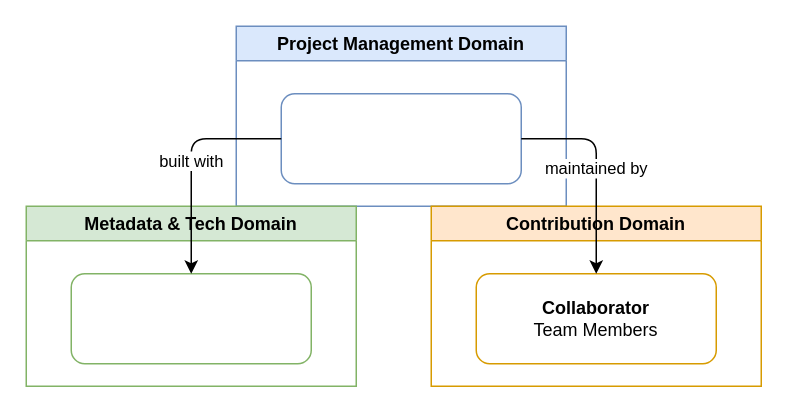
The diagram is 788 pixels wide and 413 high, and some of its shapes have lost their labels. Here are the shapes that lost their labels. From the top down, the centre of each, then its label:
At point 400,138: "Repository Project Hub".
At point 190,318: "Programming Language Tech Stack".
